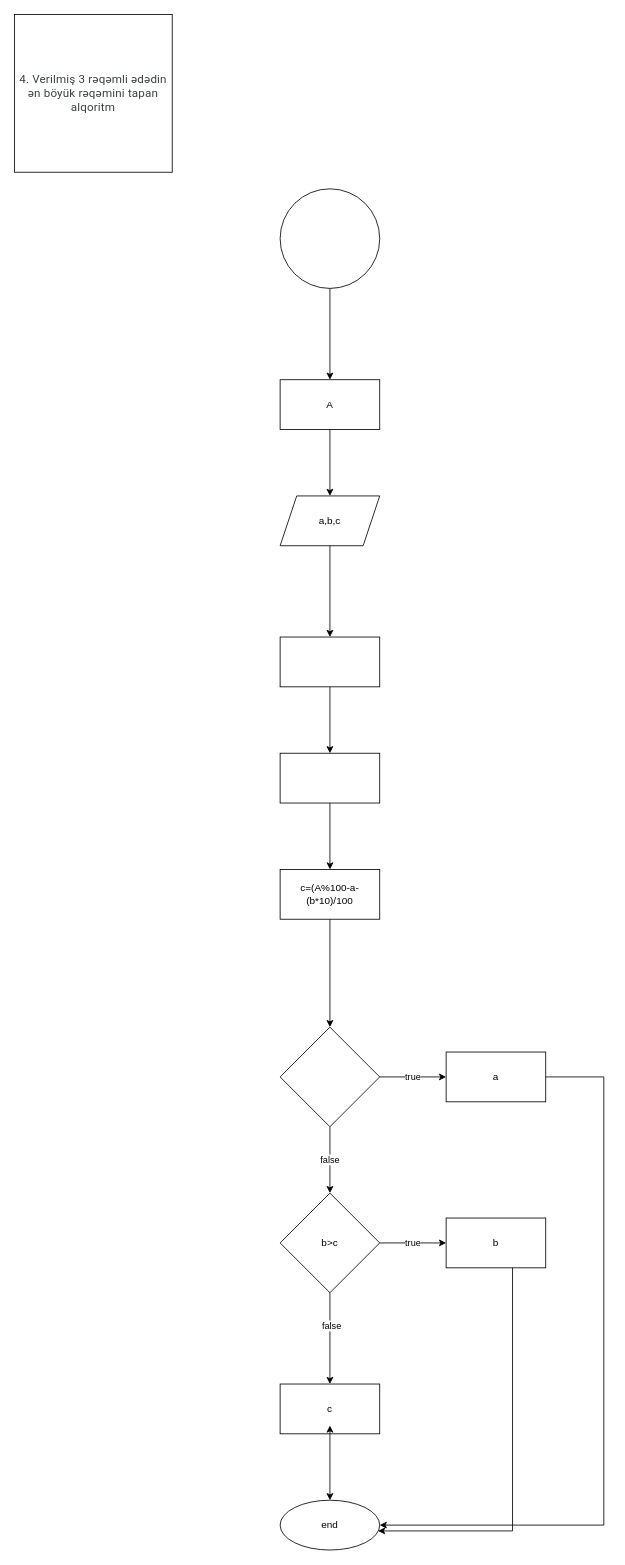
Image size: 625x1565. Some labels were removed from this diagram. Each missing label, with the centre of its shape:
"a=A%10" goes at pixel 329 661.
"a>b>c" goes at pixel 329 1076.
"b=(A*100-a)/10" goes at pixel 329 777.
"start" goes at pixel 329 238.
